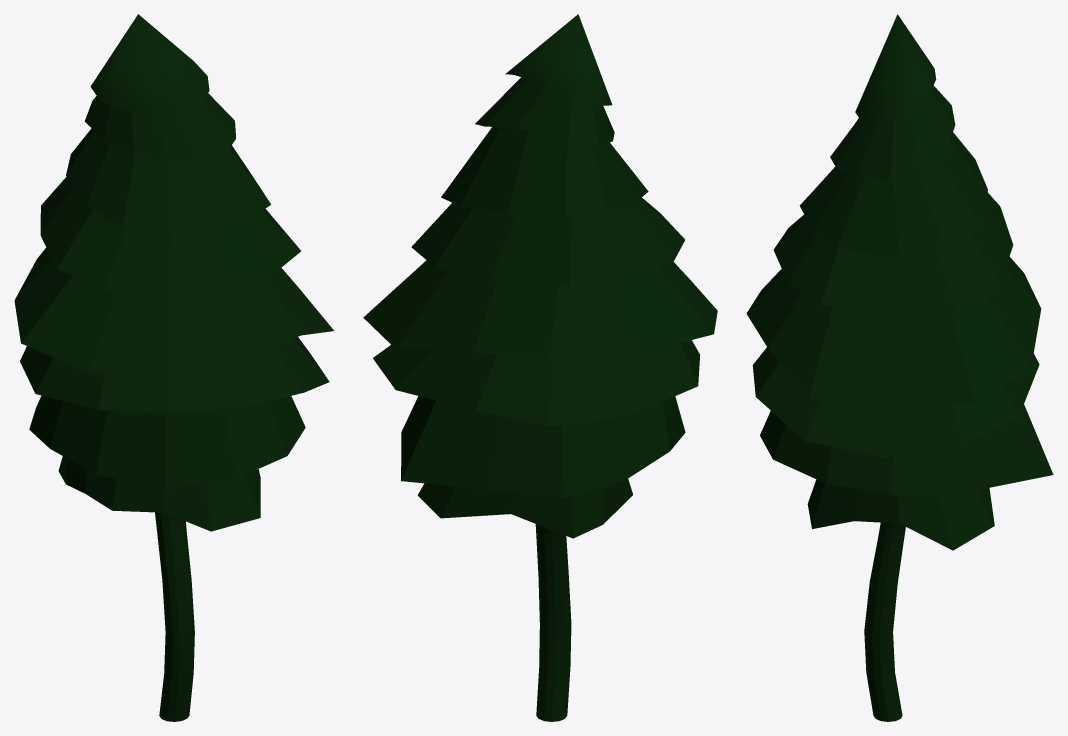
Rendered from Tree2.obj.
The picture shows the model from 3 angles, left to right: view 1: azimuth 30°, elevation 25°; view 2: azimuth 150°, elevation 25°; view 3: azimuth 270°, elevation 25°; orthographic projection. The views are drawn at different scales.
Visible parts, largest first — view 1: Tree; view 2: Tree; view 3: Tree.
Part boxes in pixels (bbox=[...]): Tree: bbox=[14, 14, 333, 721]; Tree: bbox=[363, 14, 717, 721]; Tree: bbox=[746, 14, 1053, 721].
Size of the model in its own units: 22.52 by 50.8 by 20.59.
